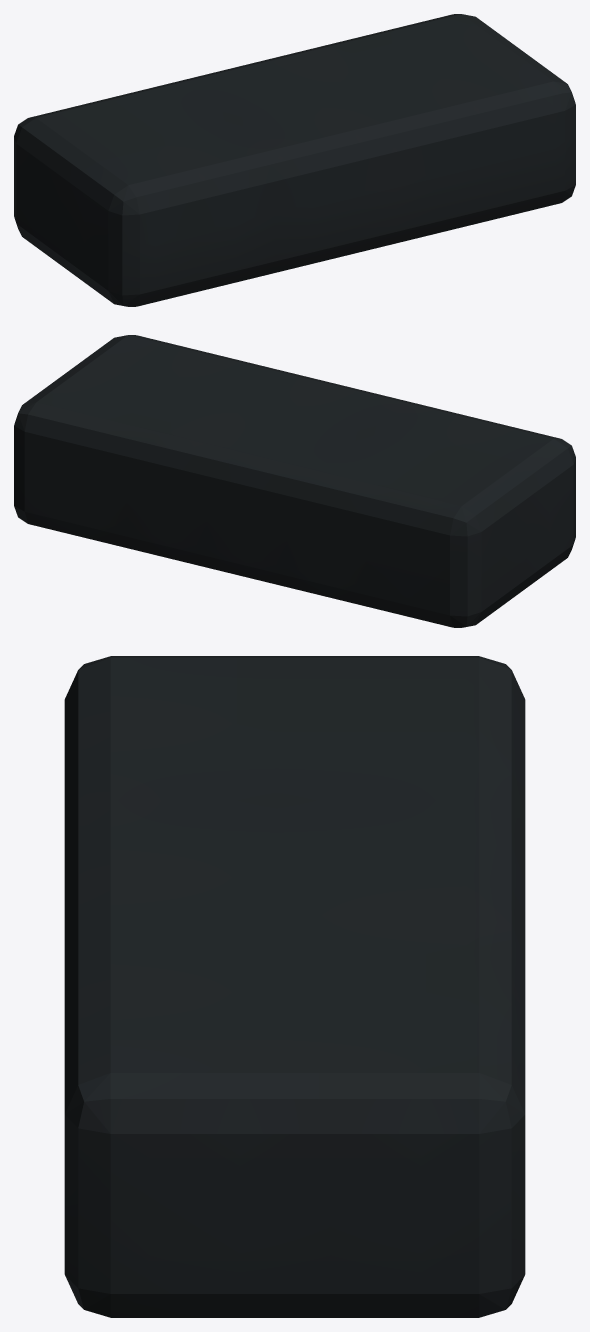
Rendered from 4_button.obj.
3 renders of one model, top to bottom at view 1: azimuth 30°, elevation 25°; view 2: azimuth 150°, elevation 25°; view 3: azimuth 270°, elevation 25°, orthographic. The views are drawn at different scales.
Size of the model in its own units: 0.14 by 0.035 by 0.06.
1 material, 1 textured.
